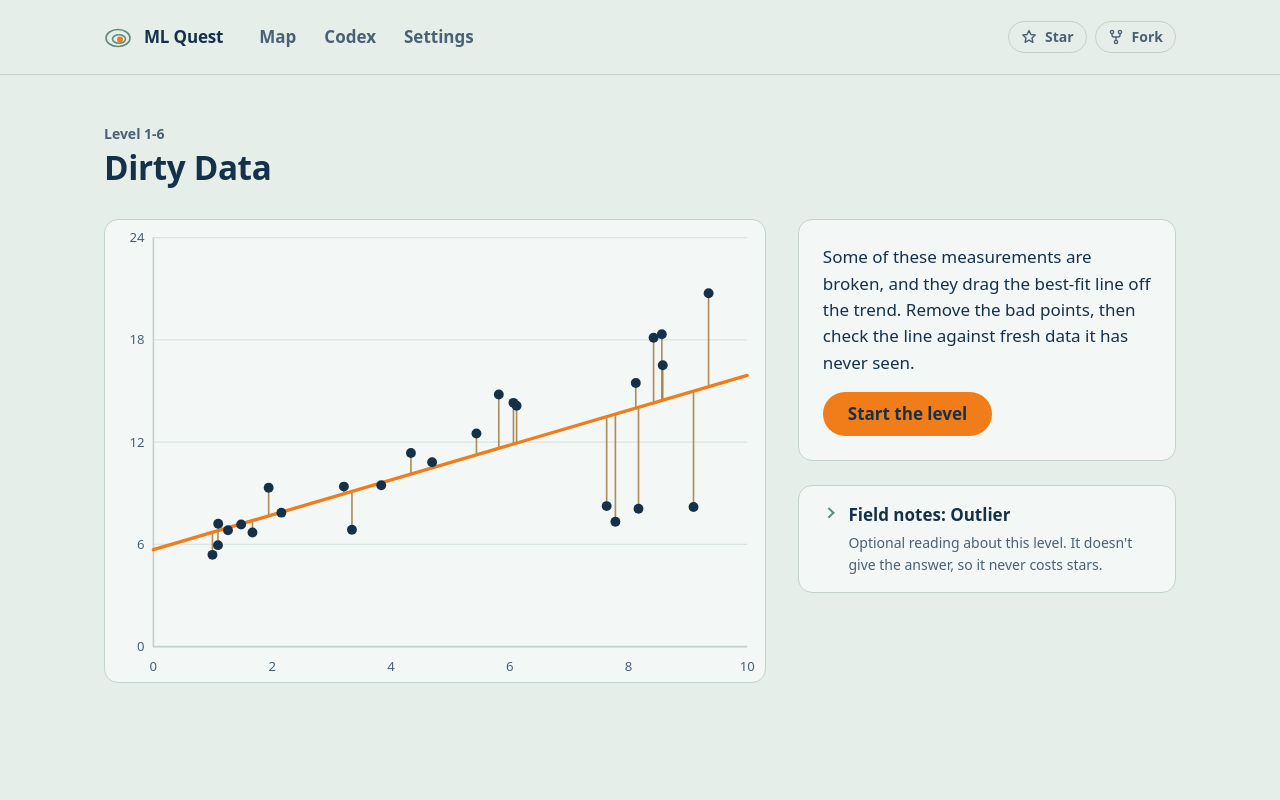
it: accessibility (axe, WCAG 2.1 A/AA) › removes and restores a point with the keyboard alone (Dirty Data)
The width and height of the screenshot is (1280, 800).
Click the button "Start the level" at (907, 414), box left=823, top=392, right=992, bottom=436
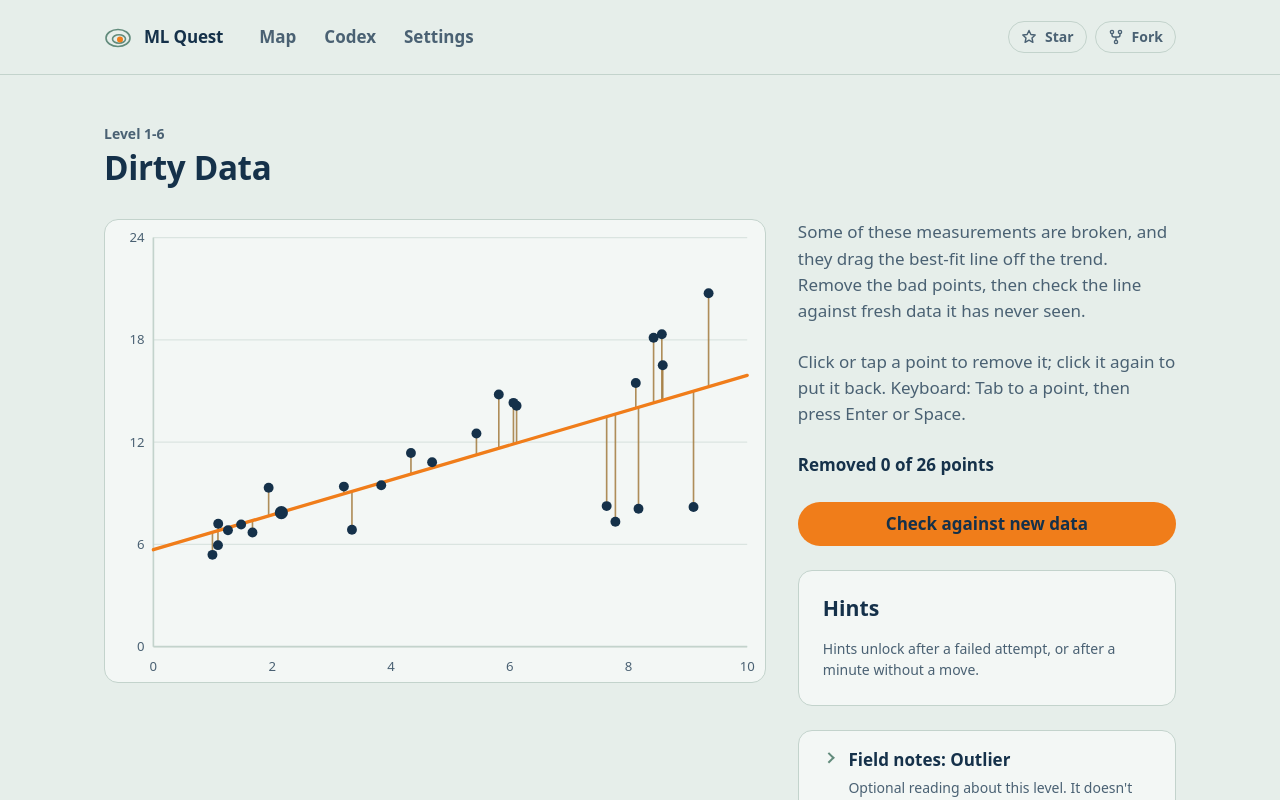
Type keys " "
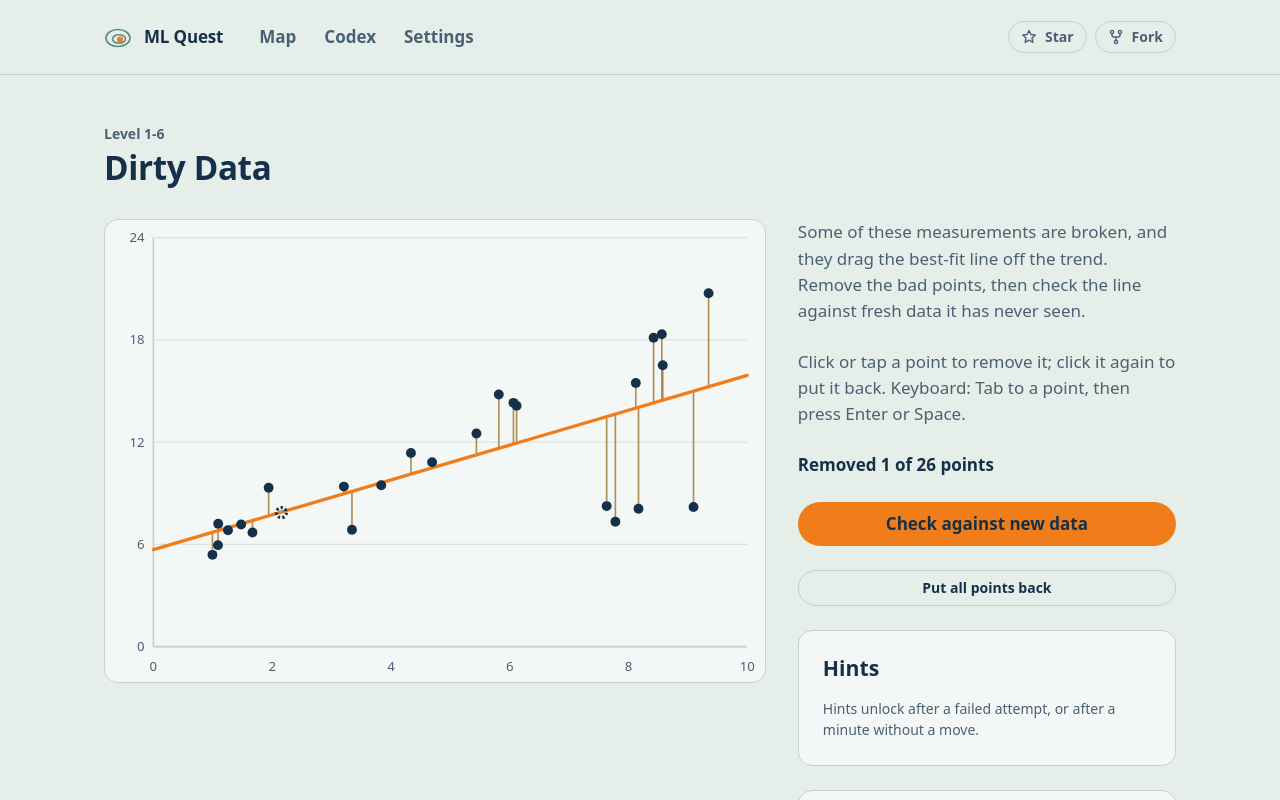
Result: the text "Removed 1 of 26 points" is shown at left=798, top=453, right=994, bottom=476
Press Enter
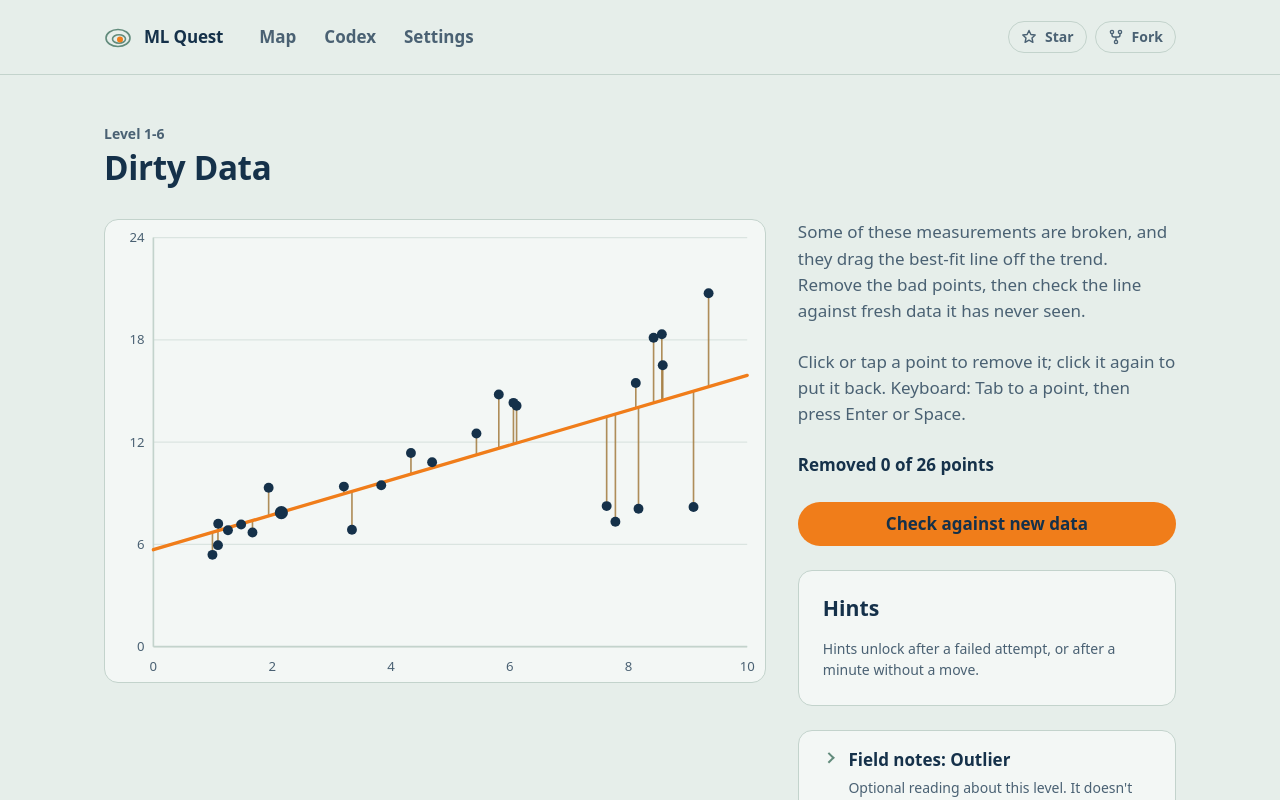
Result: the text "Removed 0 of 26 points" is shown at left=798, top=453, right=994, bottom=476
